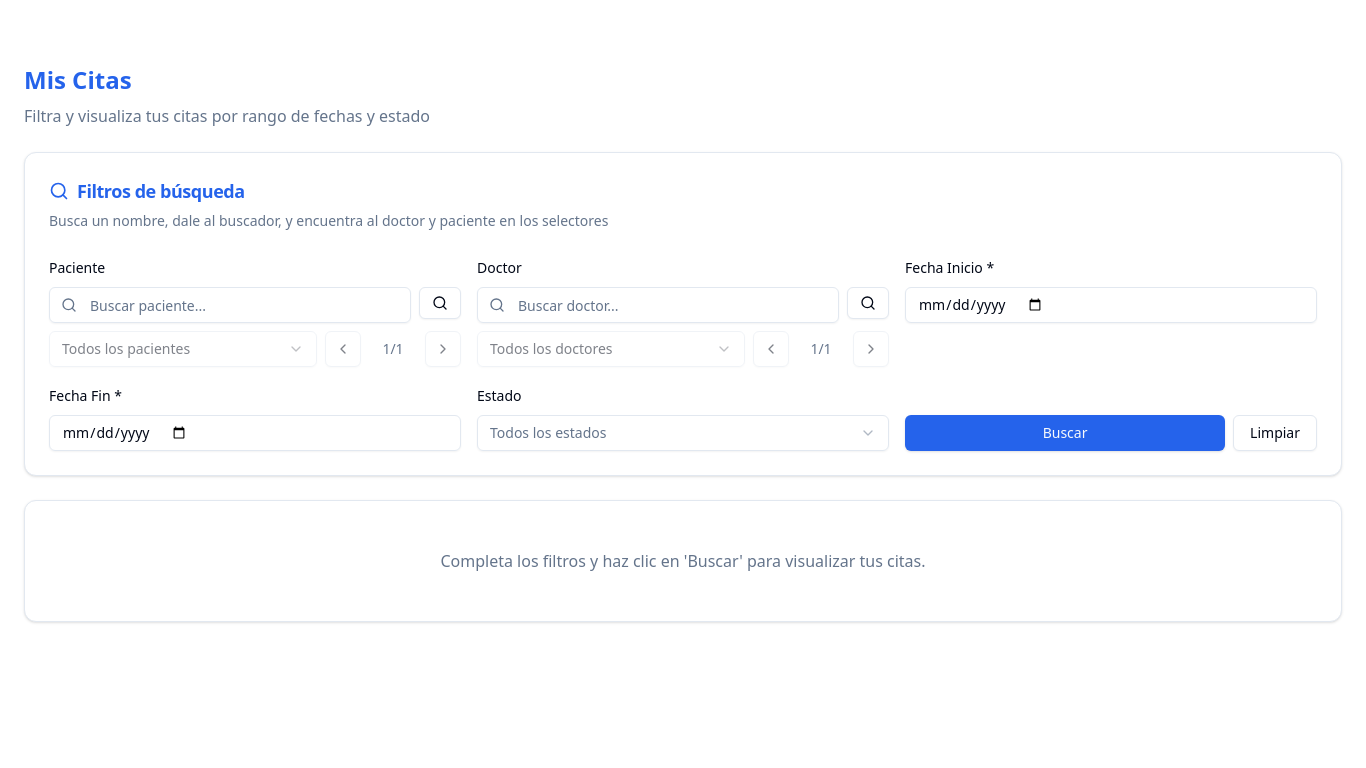
Test case: ListAppointmentsComponent › Búsqueda de citas › debe mostrar las citas en la tabla después de buscar
Type "2025-04-01" into the date field below "Fecha Inicio *". click: (1111, 305)
box: x1=905 y1=287 x2=1317 y2=323
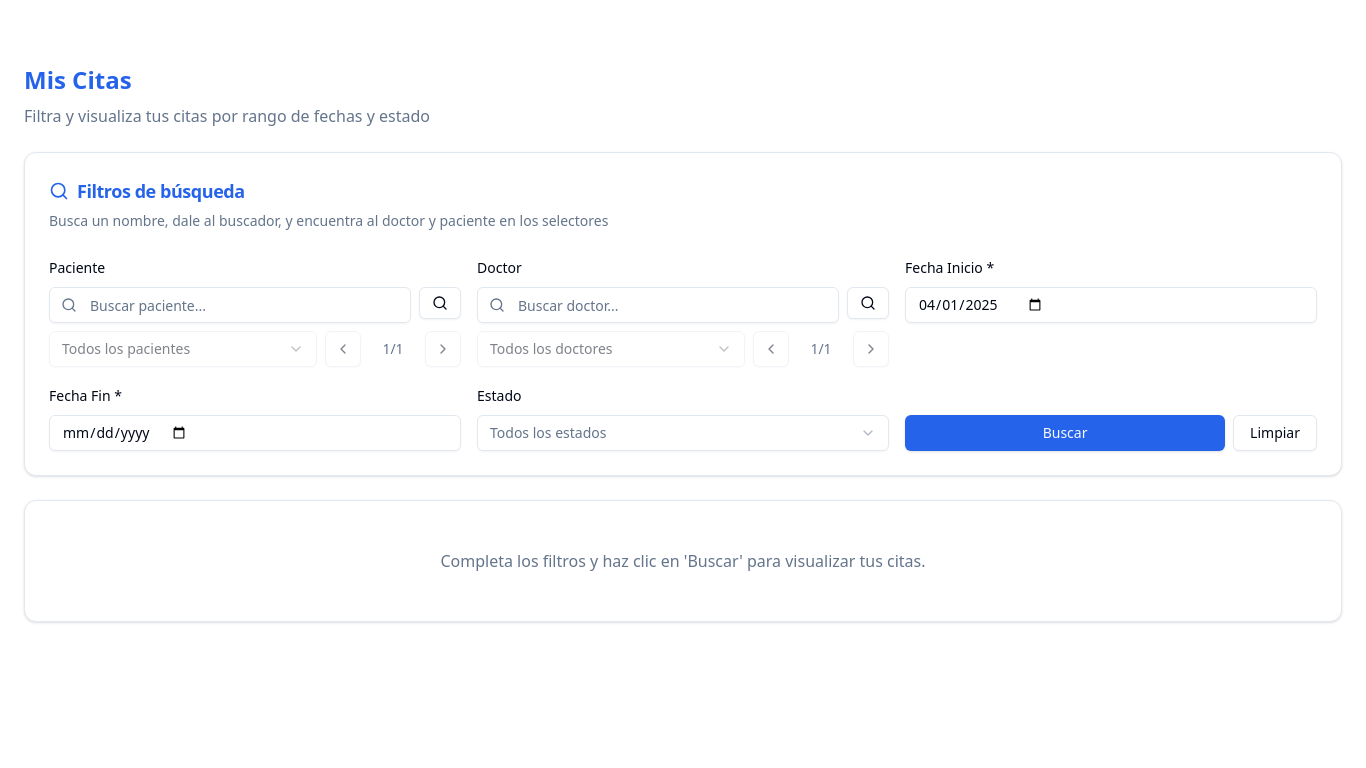
Type "2025-04-30" into the date field below "Fecha Fin *". click: (255, 433)
box: x1=49 y1=415 x2=461 y2=451
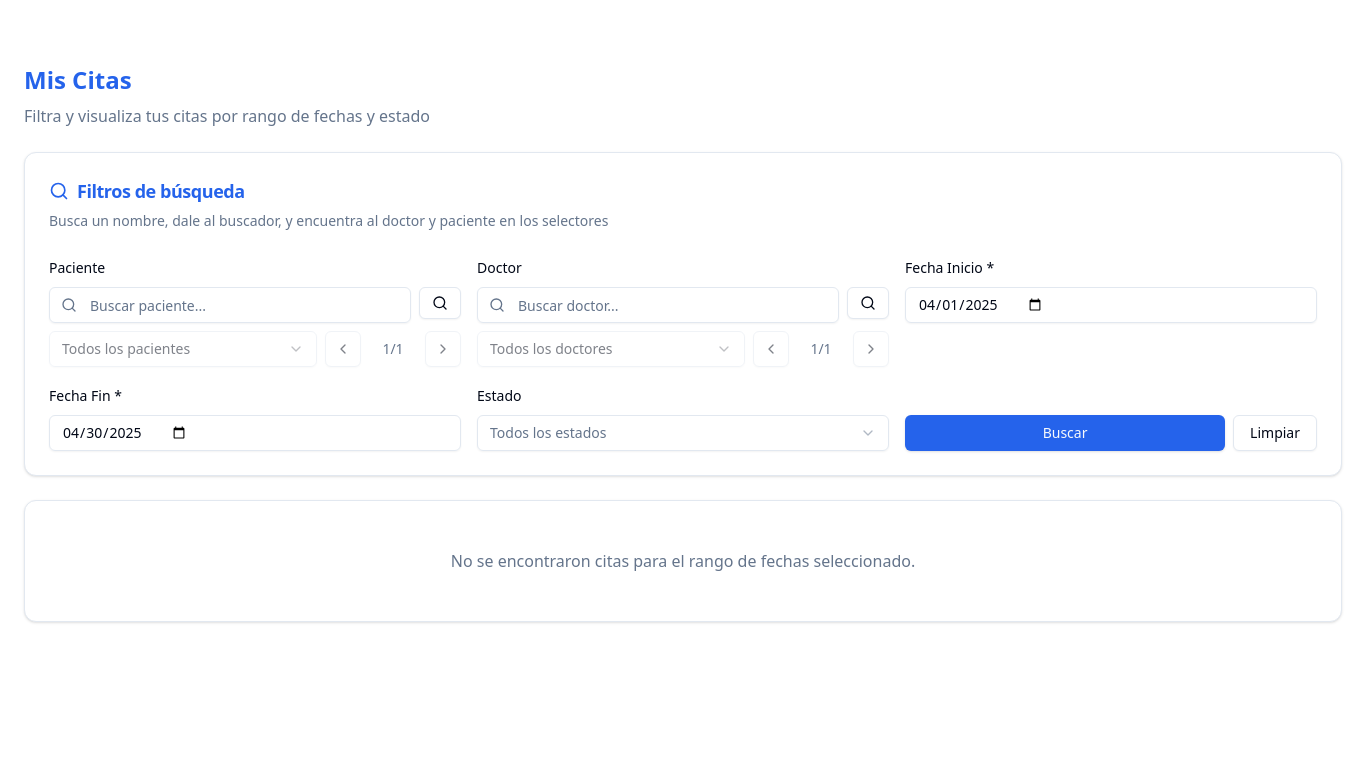
Click the button "Buscar". click: (1065, 433)
box: x1=905 y1=415 x2=1225 y2=451
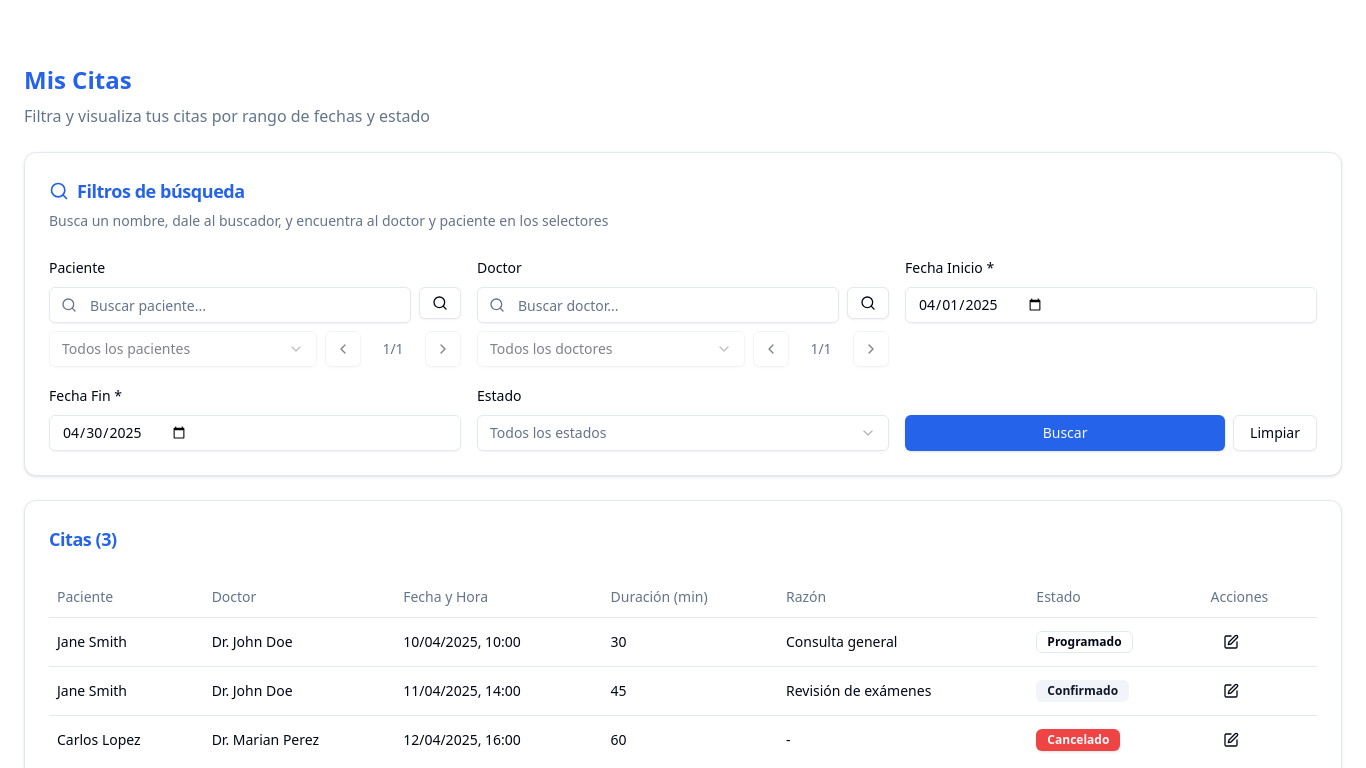
Expected: the text "Consulta general" is shown, x1=778 y1=617 x2=1028 y2=666
Expected: the text "Revisión de exámenes" is shown, x1=778 y1=666 x2=1028 y2=715
